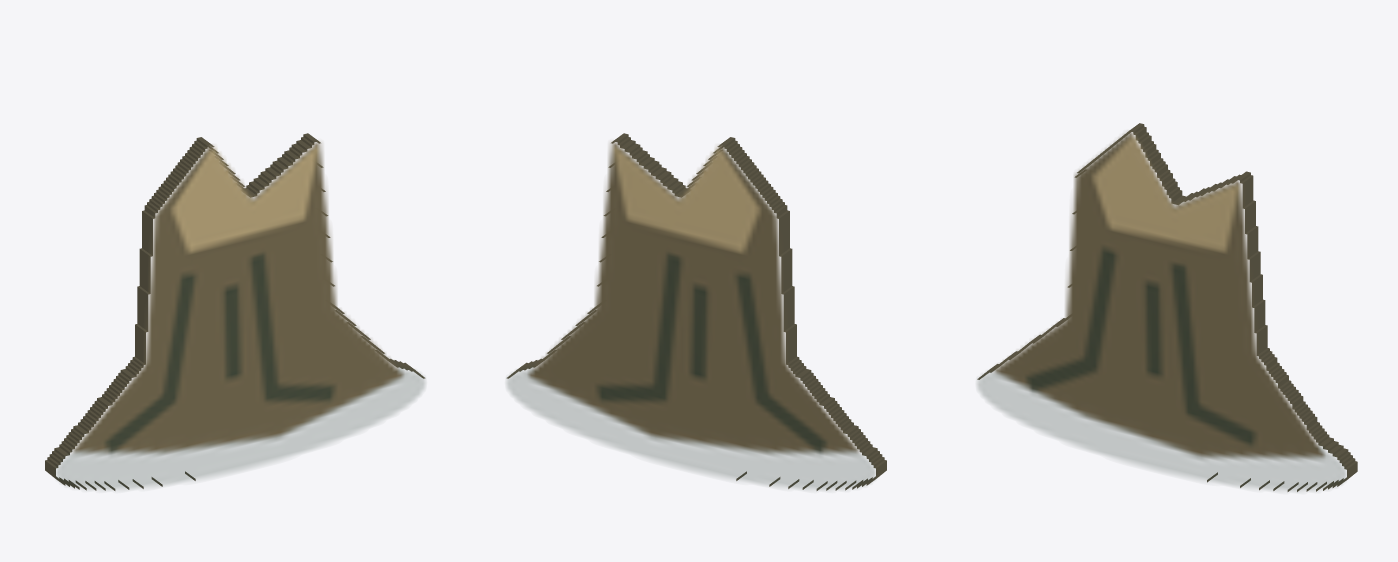
Rendered from BrokenStump.glb.
3 views of the same model, side by side, from view 1: azimuth 30°, elevation 25°; view 2: azimuth 150°, elevation 25°; view 3: azimuth 330°, elevation 25° (orthographic).
Parts seen in each view (by area): view 1: Visual; view 2: Visual; view 3: Visual.
Part boxes in pixels (x1,y1,x2,y2): Visual: [45, 133, 425, 491]; Visual: [506, 133, 886, 491]; Visual: [977, 123, 1357, 492].
Bounding box in the file's own units: 1.8 × 1.7 × 0.08.
Materials: 3 (2 with a texture image).
